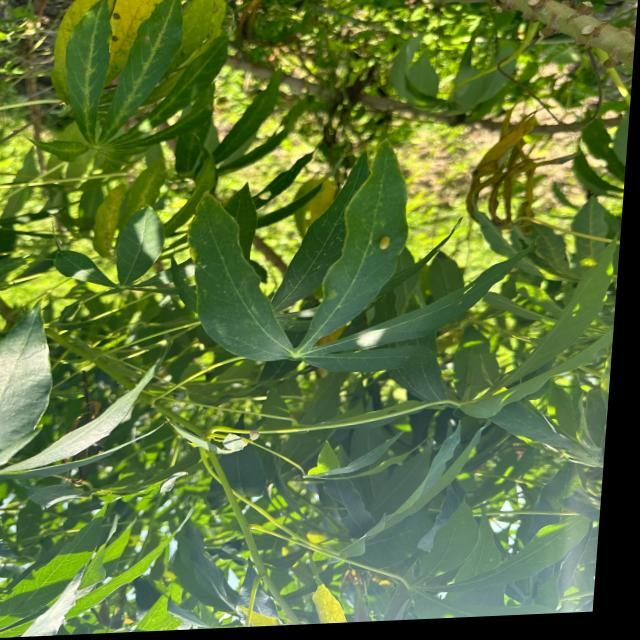Mosca: (376, 224, 400, 252)
